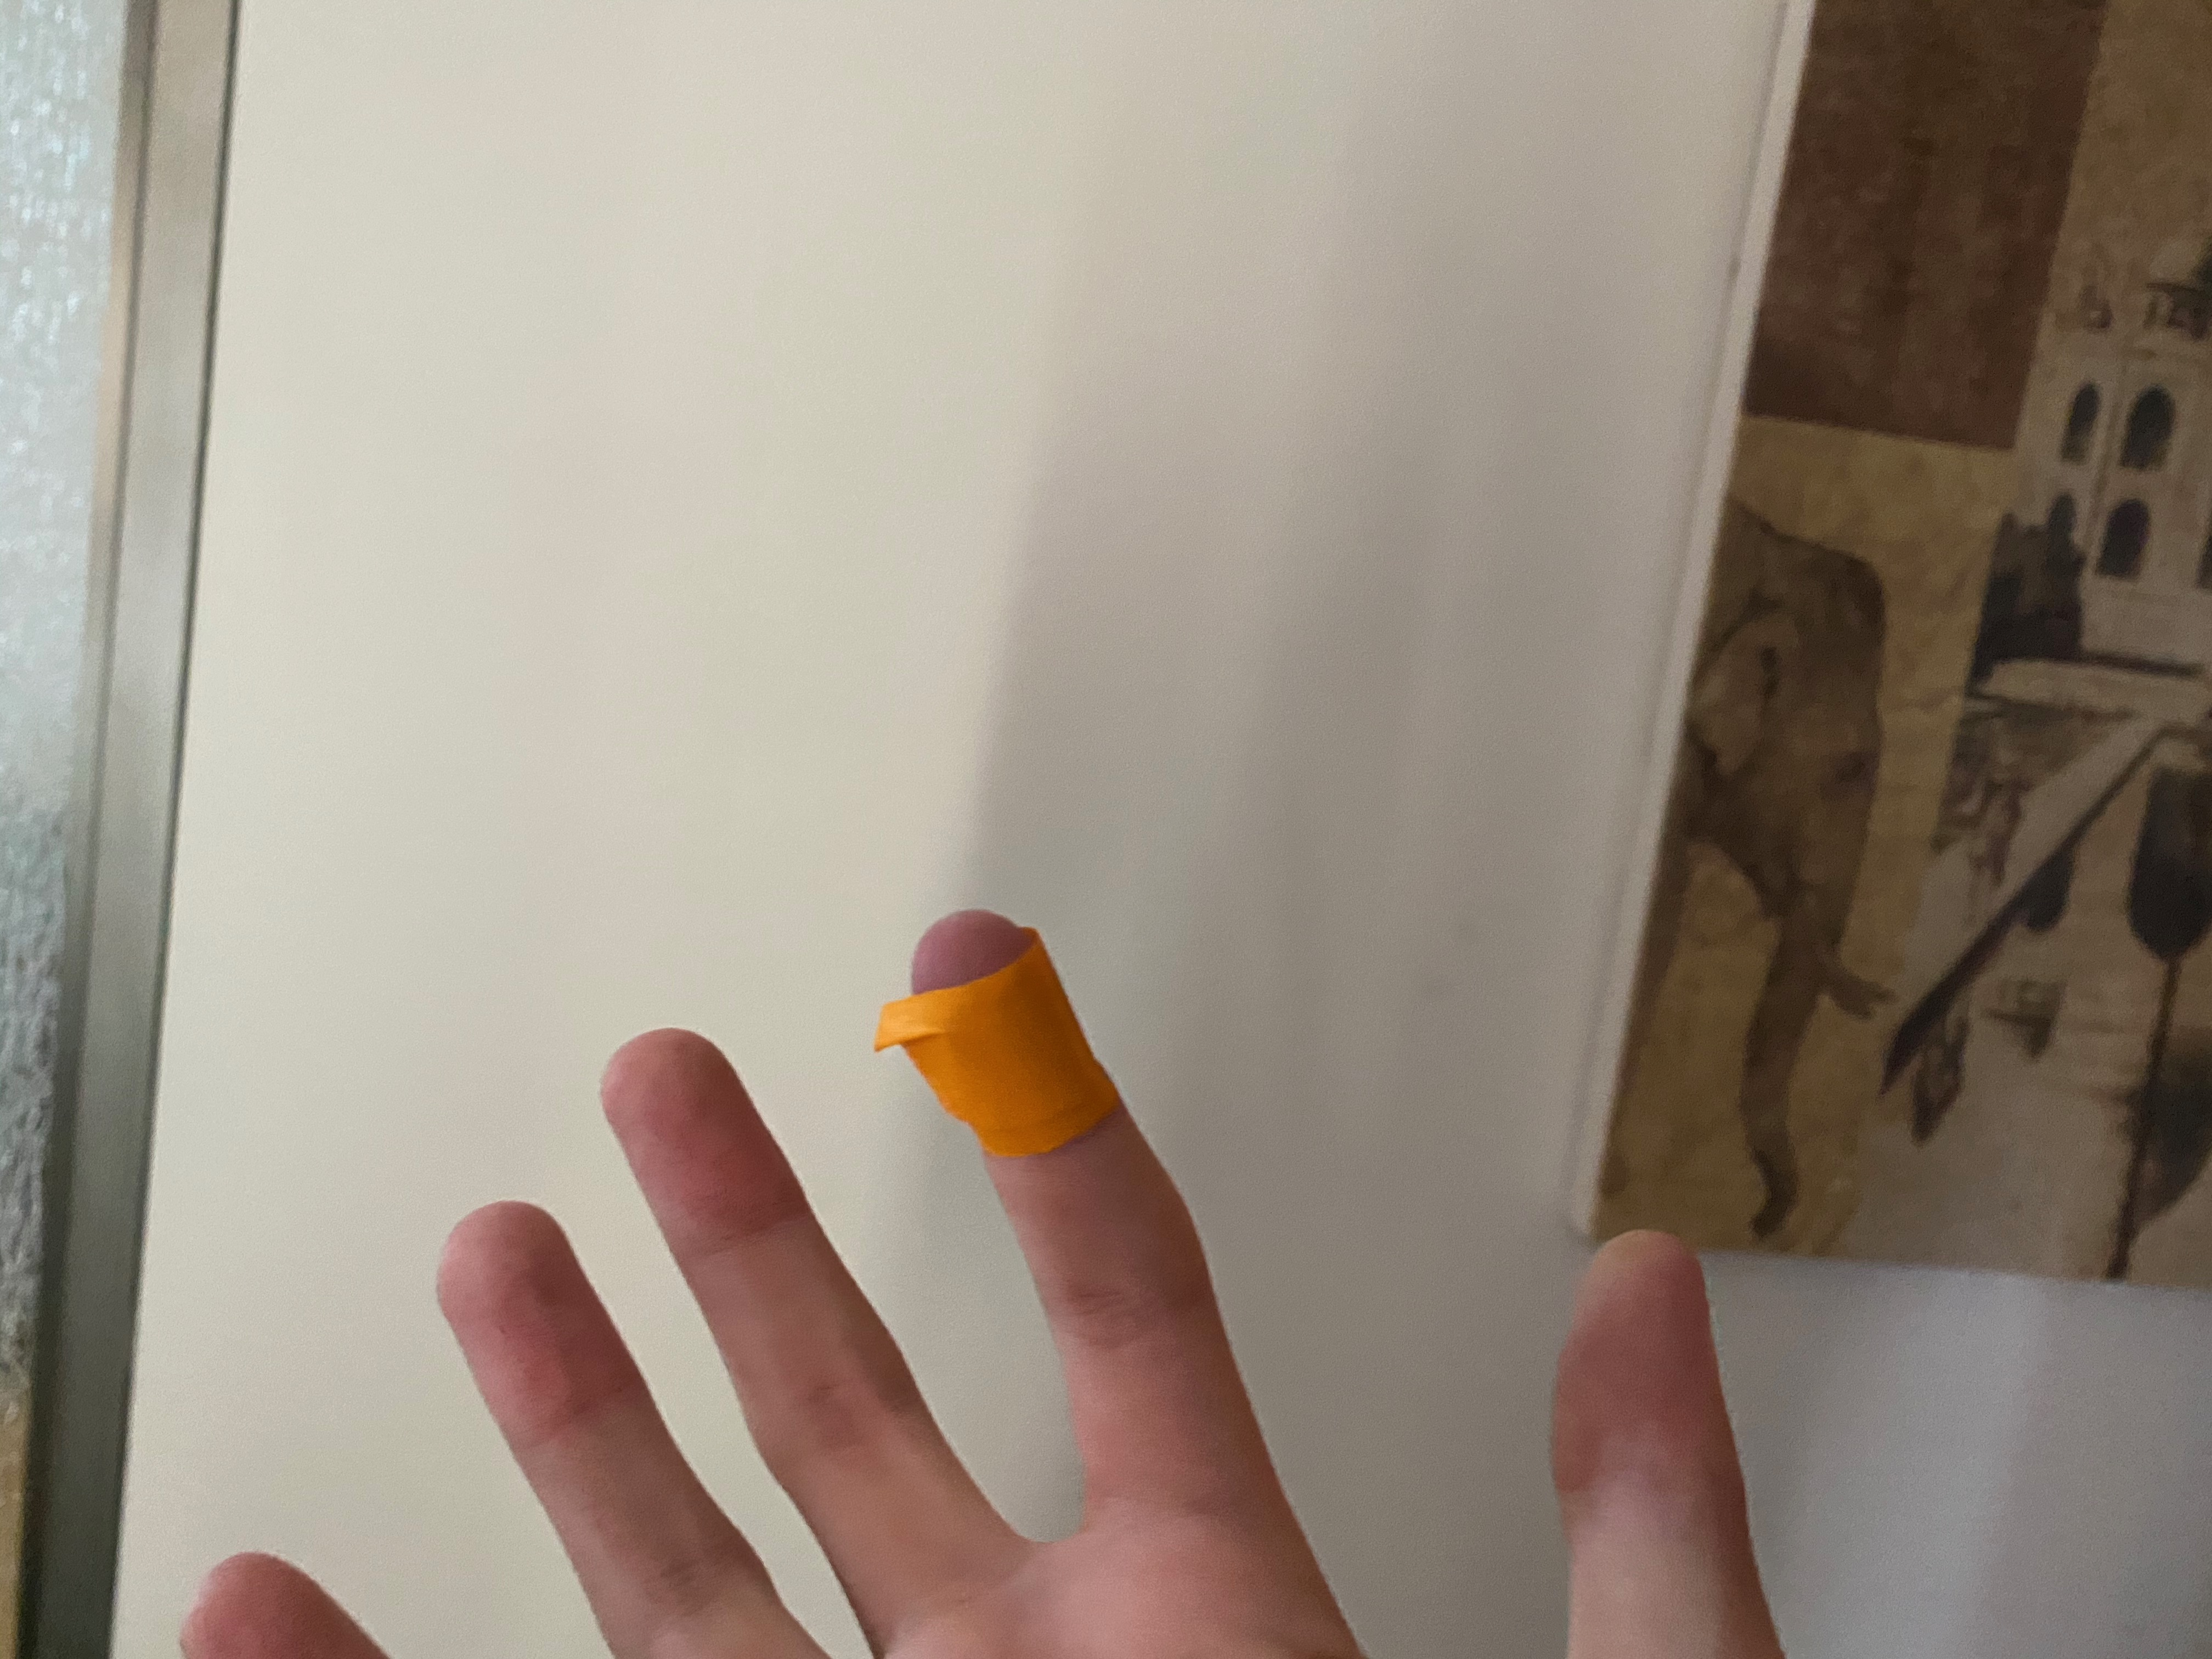fingertip: (843, 906, 1125, 1176)
